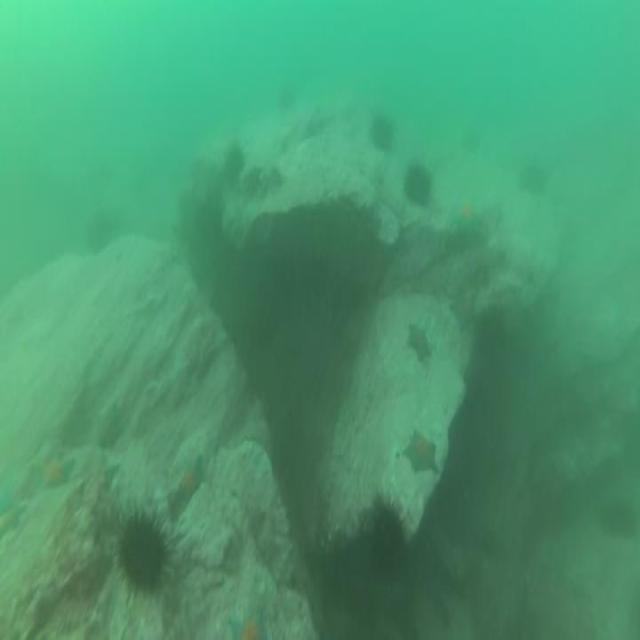echinus: (109, 496, 178, 605), (362, 488, 410, 590), (401, 156, 435, 214), (81, 210, 118, 259), (516, 156, 550, 204), (220, 136, 247, 190), (367, 109, 397, 156), (457, 124, 484, 156), (274, 85, 300, 114)
starfish: (34, 441, 76, 495), (400, 423, 440, 479), (176, 452, 208, 512), (402, 318, 437, 370), (450, 281, 481, 338), (227, 603, 273, 640), (448, 200, 484, 238), (0, 469, 16, 517)
